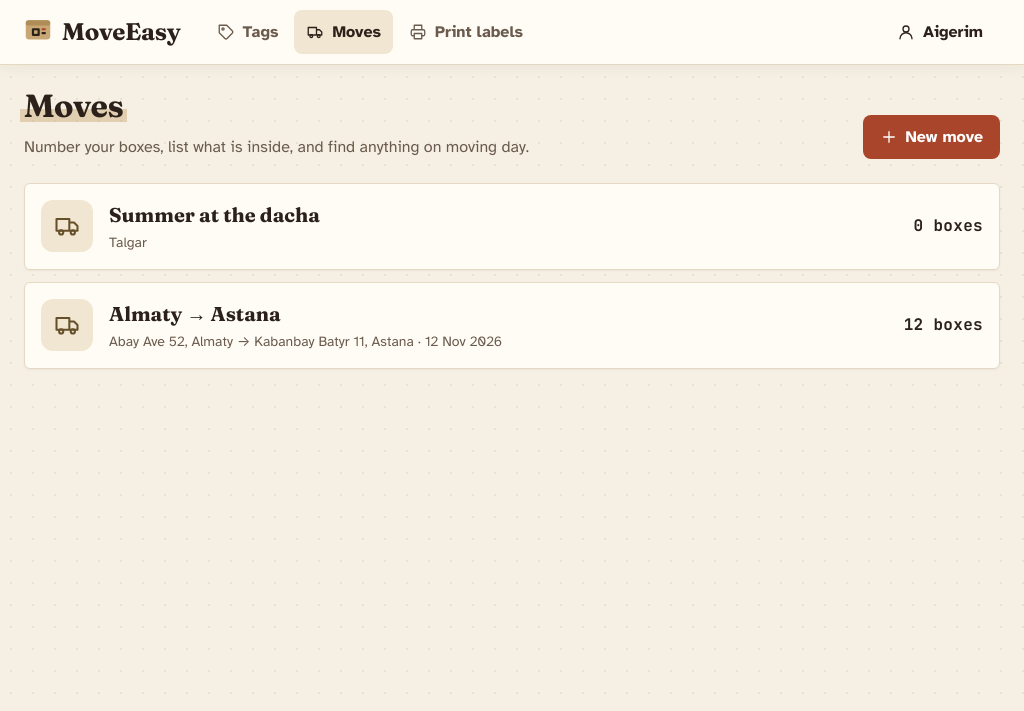
Test case: moves › creates a move and opens it
Step 1. Click the button "New move" → click(931, 137), box top-left (862, 115), bottom-right (1000, 159)
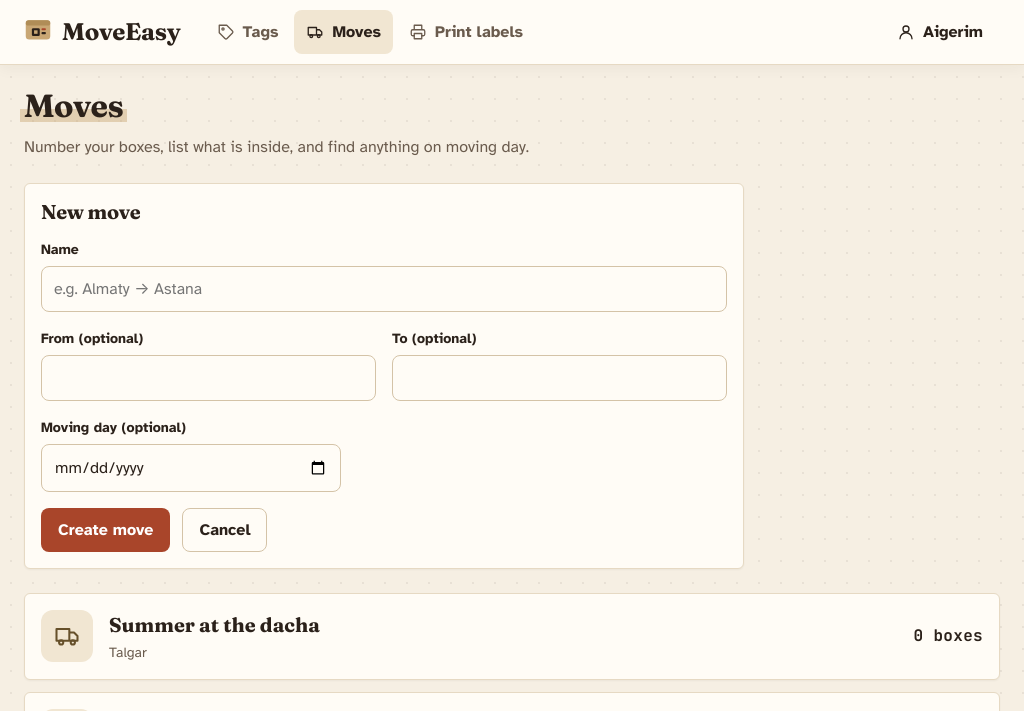
Step 2. Click the button "Create move" → click(106, 530), box top-left (41, 508), bottom-right (170, 552)
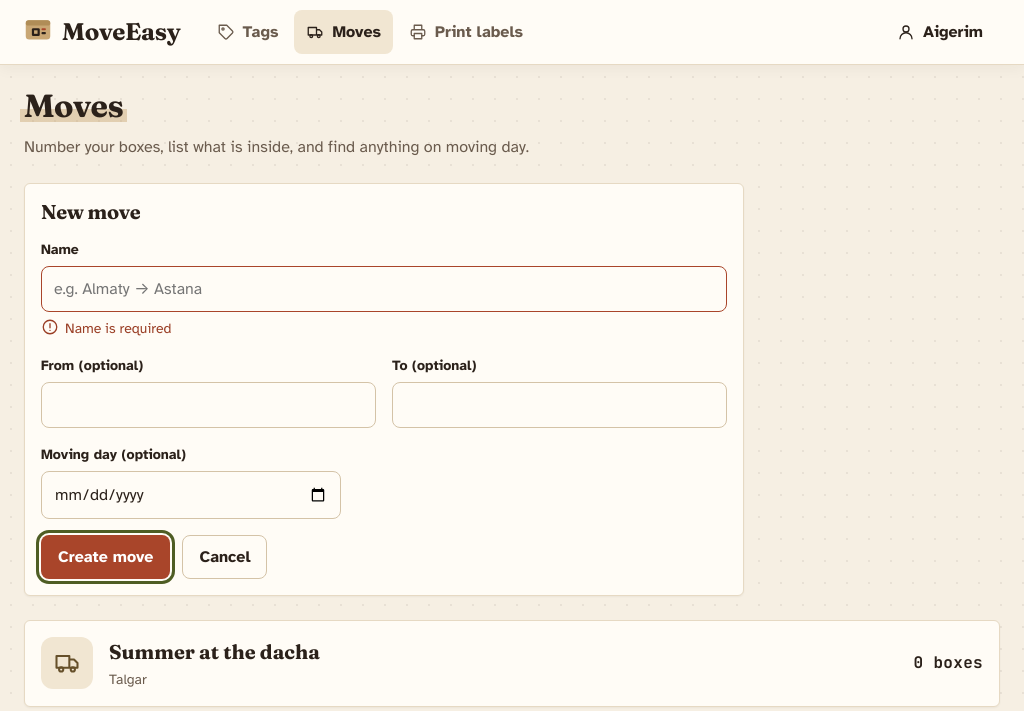
Check: the text "Name is required" is shown, box top-left (65, 318), bottom-right (172, 339)
Step 3. Type "To Shymkent" into the field labelled "Name" → (384, 289), box top-left (41, 266), bottom-right (727, 312)
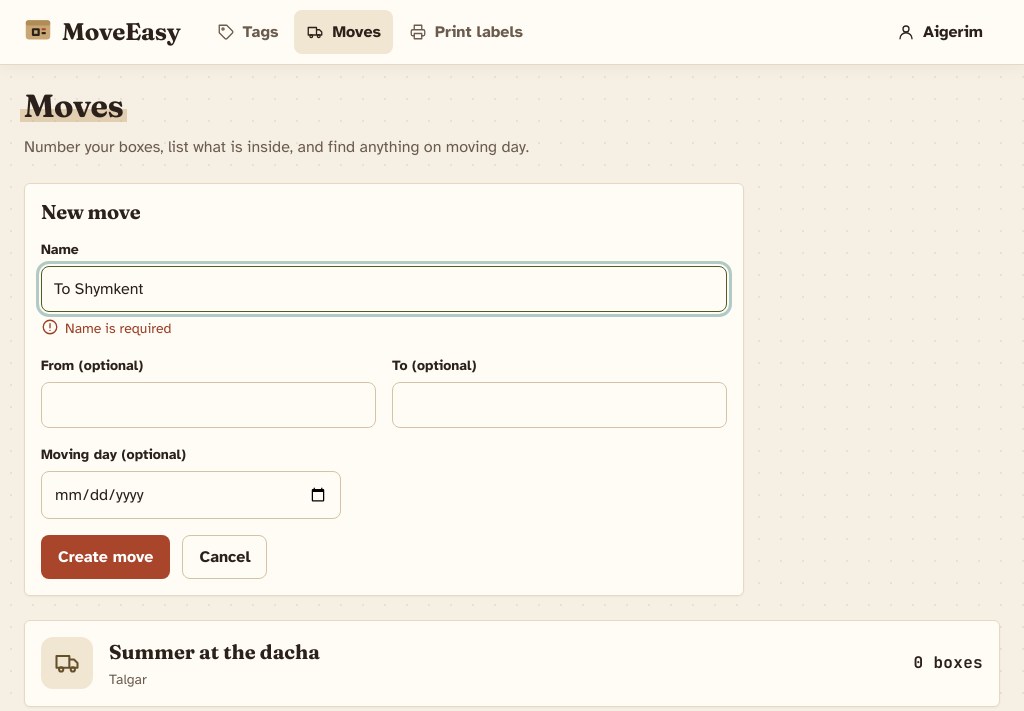
Step 4. Click the button "Create move" → click(106, 557), box top-left (41, 535), bottom-right (170, 579)
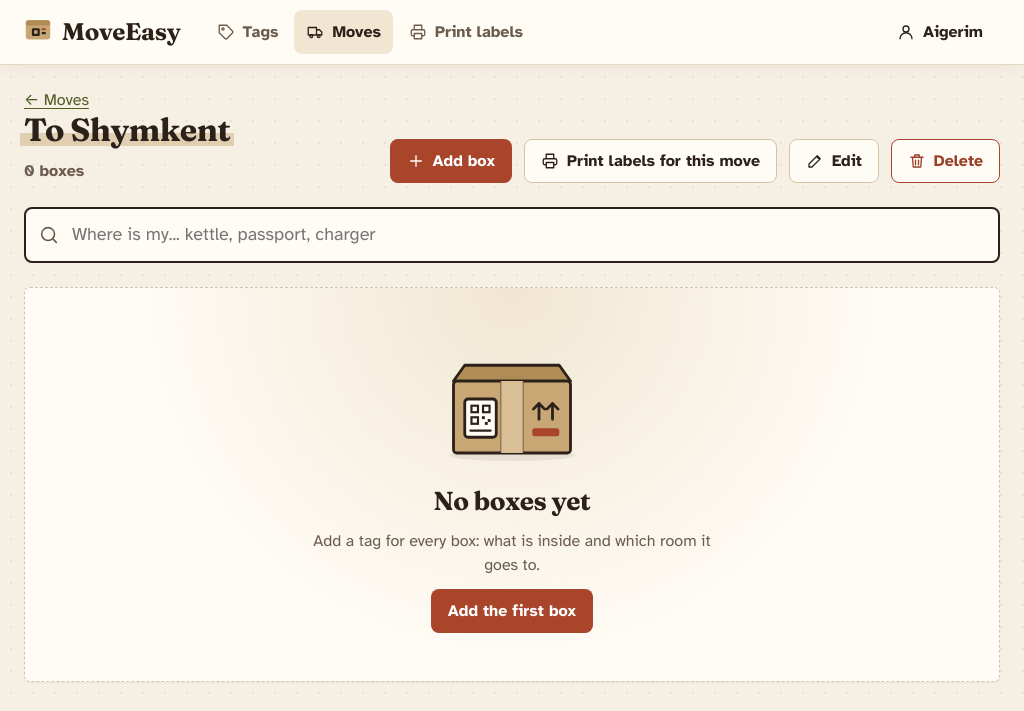
Check: the heading "To Shymkent" is shown, box top-left (20, 110), bottom-right (234, 149)
Check: the heading "No boxes yet" is shown, box top-left (434, 487), bottom-right (590, 517)
